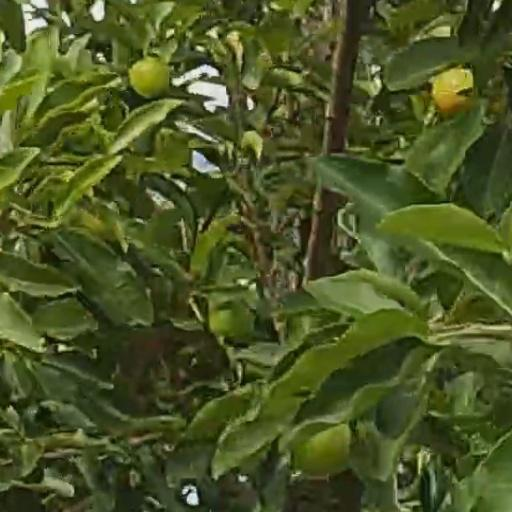acerola_verde: (296, 424, 347, 476), (133, 59, 170, 99)
acerola_vermelha: (434, 66, 469, 112)
